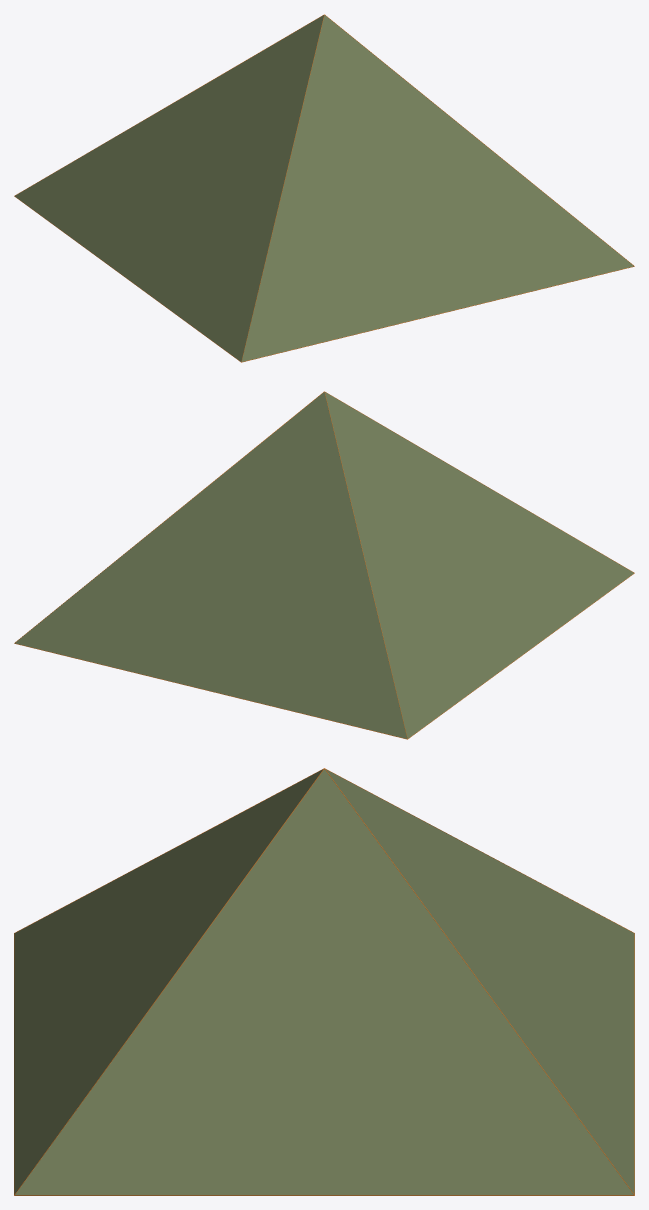
Rendered from piramide2.glb.
The picture shows the model from 3 angles, top to bottom: view 1: azimuth 30°, elevation 25°; view 2: azimuth 150°, elevation 25°; view 3: azimuth 270°, elevation 25°; orthographic projection. The views are drawn at different scales.
Visible parts, largest first — view 1: Cube.003, Cube.001; view 2: Cube.003, Cube.001; view 3: Cube.003, Cube.001.
Part boxes in pixels (<box>): Cube.003: <box>15,15,633,361</box>; Cube.001: <box>14,14,634,362</box>; Cube.003: <box>15,392,633,738</box>; Cube.001: <box>14,391,634,739</box>; Cube.003: <box>14,769,634,1195</box>; Cube.001: <box>14,768,634,1195</box>.
Bounding box in the file's own units: 2 × 1.05 × 2.
